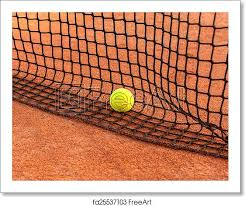tennis_ball: (109, 87, 134, 112)
